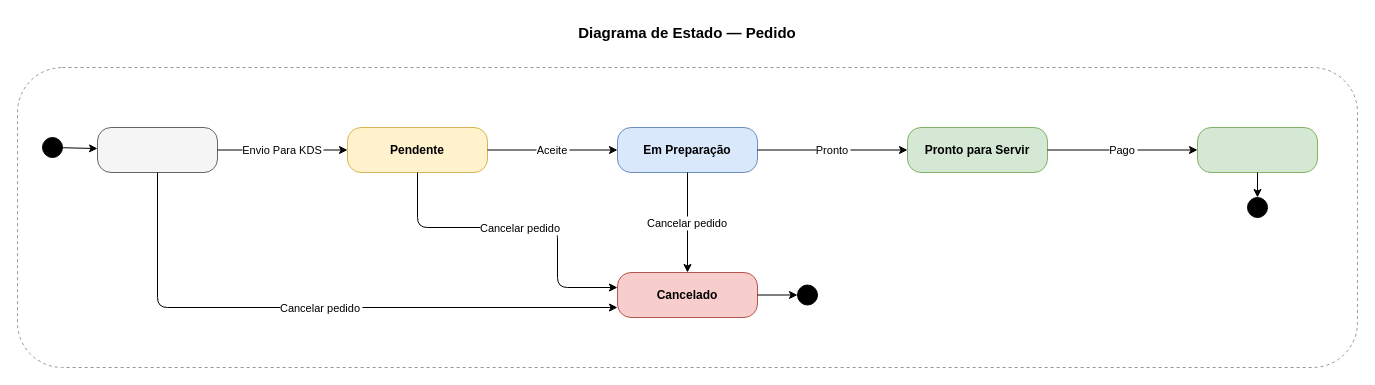
Some shapes in this 1375 by 385 pixel diagram are drawn without their labels. Here are the shapes that lost their labels. From the top down, the box of each, then its label:
(96, 126, 218, 172): Criado
(1196, 126, 1318, 172): Fechado
